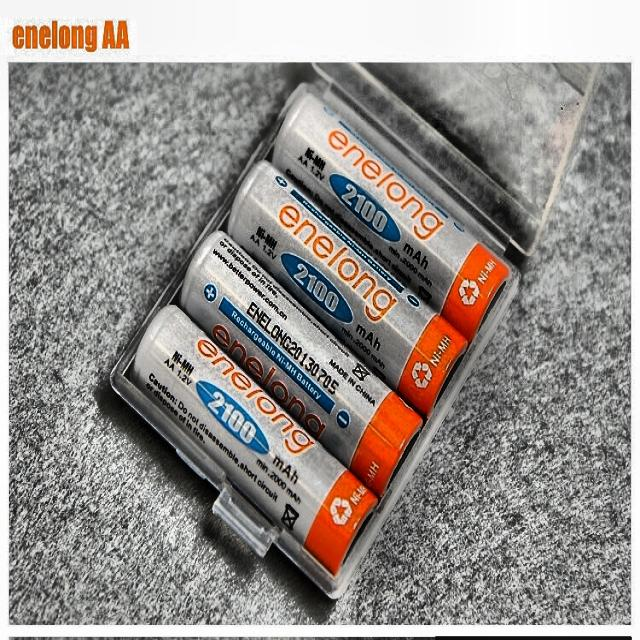Non-Valuable Waste - Batteries: (130, 306, 376, 574), (179, 231, 421, 497), (226, 160, 468, 420), (272, 95, 509, 341)
